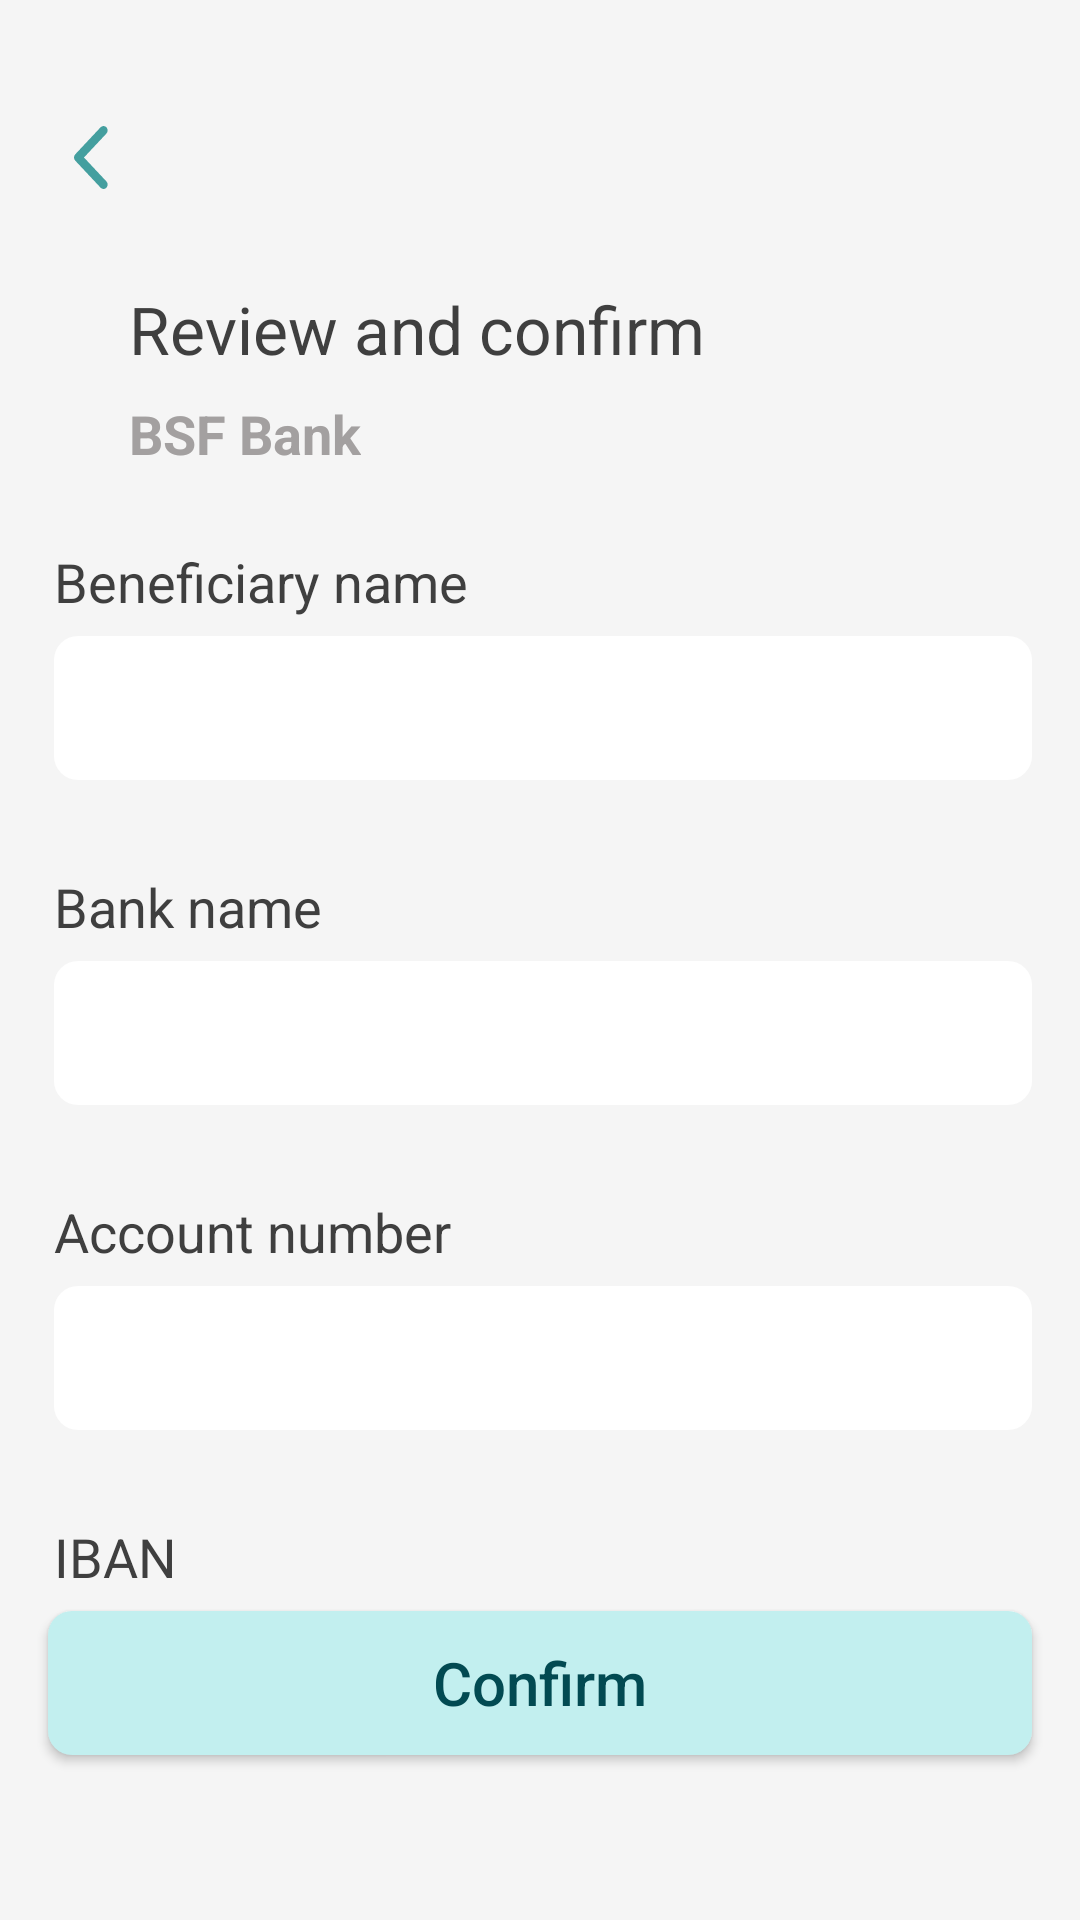

Screen size 1080x1920. Icon name, then its center in pixels as (x,y):
back: (91,157)
